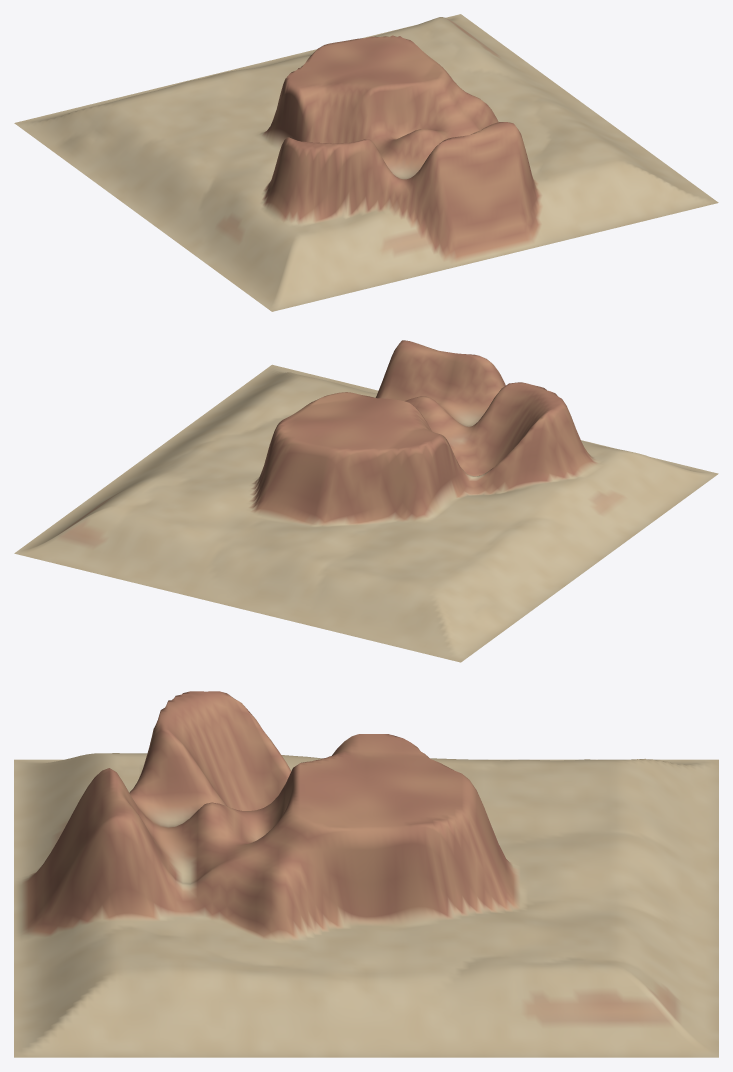
Rendered from desert-terrain.gltf.
3 views of the same model, one above another, from view 1: azimuth 30°, elevation 25°; view 2: azimuth 150°, elevation 25°; view 3: azimuth 270°, elevation 25° (orthographic). The views are drawn at different scales.
Parts seen in each view (by area): view 1: desert-terrain; view 2: desert-terrain; view 3: desert-terrain.
Part boxes in pixels (<box>): desert-terrain: <box>14,14,718,311</box>; desert-terrain: <box>14,340,718,662</box>; desert-terrain: <box>14,691,718,1057</box>.
Bounding box in the file's own units: 60 × 12.58 × 60.
